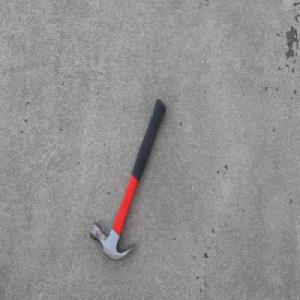Hammer: (89, 96, 167, 262)
